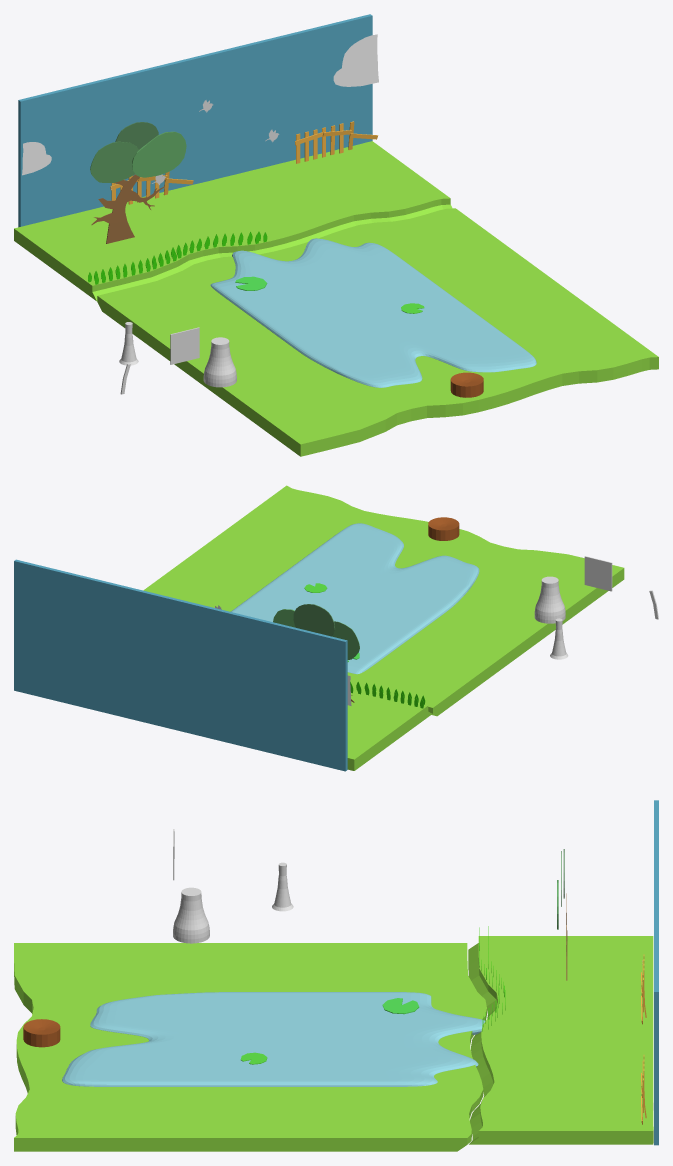
File: WIP Bird Watch Developmental Environment.fbx
3 views of the same model, one above another, from view 1: azimuth 30°, elevation 25°; view 2: azimuth 150°, elevation 25°; view 3: azimuth 270°, elevation 25° (orthographic). The views are drawn at different scales.
Parts seen in each view (by area): view 1: Water, Backdrop, Level Base, River, Tree Top 1, Clouds R, Tree, Tree Top 2, Mock Tree, Fence Duplicate, Flower Head, Player Stand (+3 smaller); view 2: Backdrop, Water, River, Level Base, Mock Tree, Tree Top 3, Flower Head, Player Stand, Tree Top 2, Mock Tree 2; view 3: Water, Level Base, River, Backdrop, Mock Tree, Player Stand, Mock Tree 2.
Boxes of the visible parts, box(x1,y1,x2,y2) form: Water: box(97, 208, 658, 456); Backdrop: box(18, 14, 372, 227); Level Base: box(14, 141, 452, 301); River: box(210, 238, 536, 387); Tree Top 1: box(132, 131, 186, 177); Clouds R: box(333, 34, 378, 86); Tree: box(91, 174, 164, 243); Tree Top 2: box(90, 141, 138, 182); Mock Tree: box(203, 337, 236, 387); Fence Duplicate: box(295, 121, 378, 163); Flower Head: box(170, 327, 199, 364); Player Stand: box(450, 372, 483, 397); Backdrop: box(14, 559, 347, 771); Water: box(143, 485, 624, 716); River: box(230, 523, 479, 674); Level Base: box(347, 689, 431, 770); Mock Tree: box(534, 576, 565, 623); Tree Top 3: box(293, 604, 335, 636); Flower Head: box(584, 556, 612, 591); Player Stand: box(428, 517, 459, 540); Tree Top 2: box(331, 621, 359, 659); Mock Tree 2: box(550, 618, 568, 659); Water: box(14, 943, 486, 1151); Level Base: box(468, 936, 653, 1144); River: box(62, 992, 485, 1086); Backdrop: box(654, 800, 658, 1145); Mock Tree: box(173, 887, 209, 943); Player Stand: box(23, 1019, 60, 1047); Mock Tree 2: box(272, 862, 293, 911).
Size of the model in its own units: 3268 by 953 by 3477.
